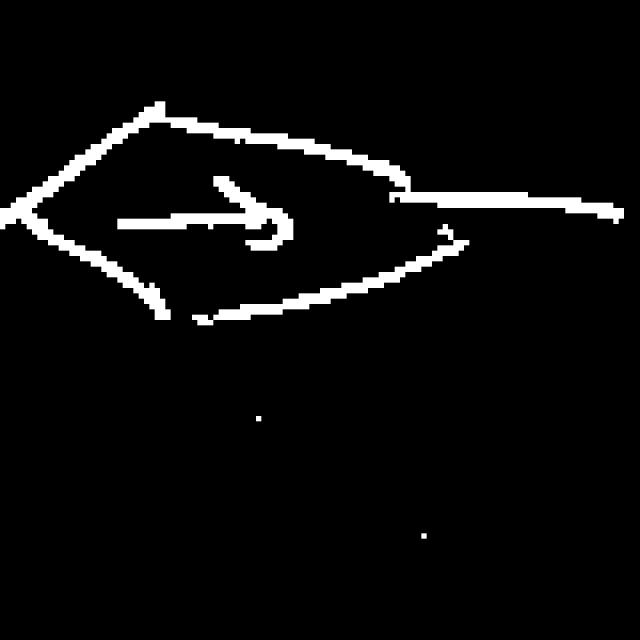dependant_current: (16, 71, 454, 340)
